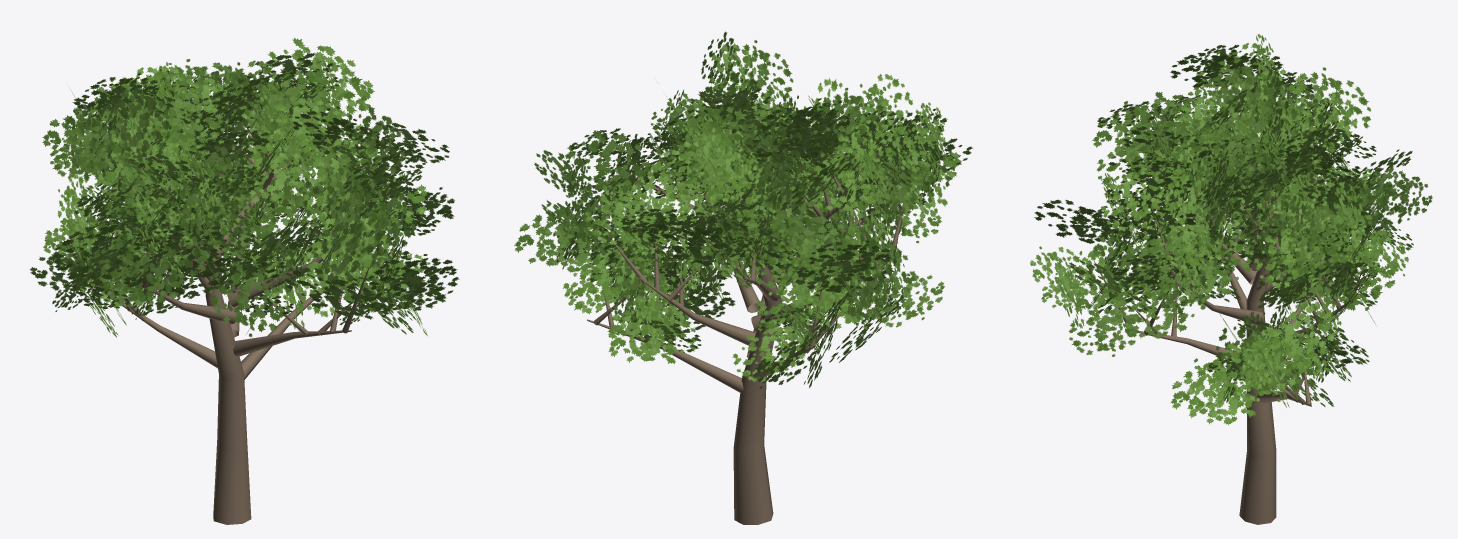
File: maple-43-high.glb
The picture shows the model from 3 angles, left to right: view 1: azimuth 30°, elevation 25°; view 2: azimuth 150°, elevation 25°; view 3: azimuth 270°, elevation 25°; orthographic projection. The views are drawn at different scales.
Parts seen in each view (by area): view 1: LeafCards, Wood; view 2: LeafCards, Wood; view 3: LeafCards, Wood.
Part boxes in pixels (left/top/right/bottom): LeafCards: left=29, top=37, right=459, bottom=337; Wood: left=95, top=106, right=386, bottom=524; LeafCards: left=514, top=31, right=972, bottom=388; Wood: left=587, top=140, right=904, bottom=524; LeafCards: left=1029, top=34, right=1432, bottom=425; Wood: left=1094, top=82, right=1368, bottom=524.
Bounding box in the file's own units: 15.56 × 15.99 × 14.22.
2 materials, 1 textured.
